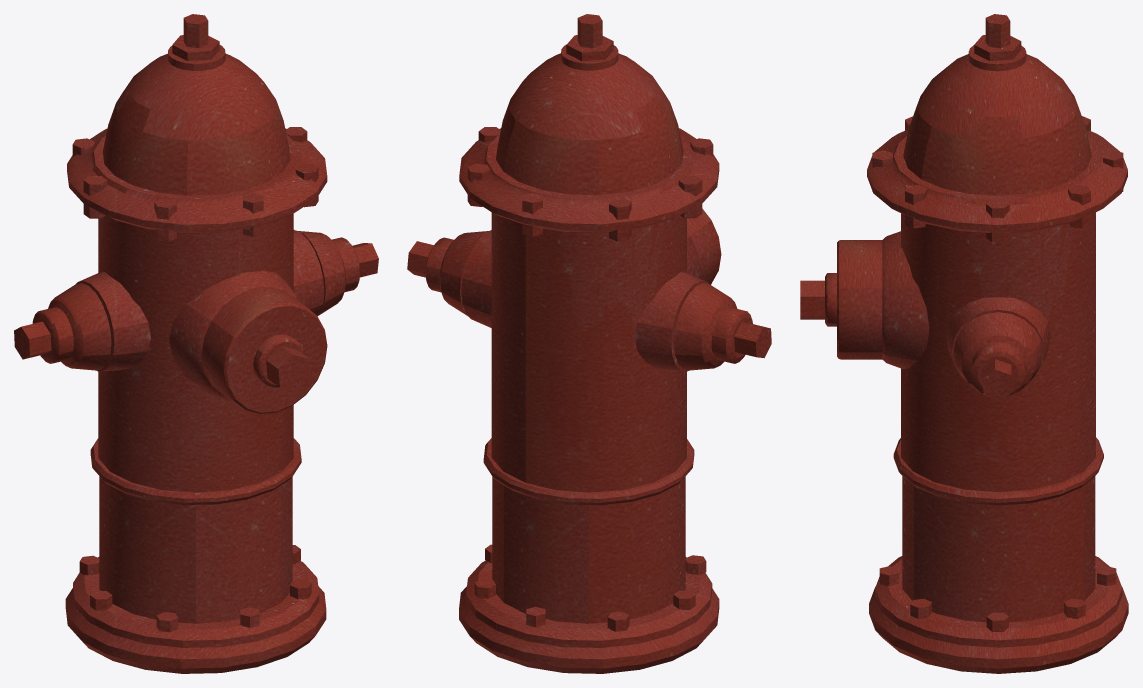
The model's file is hydrant.obj.
The picture shows the model from 3 angles, left to right: view 1: azimuth 30°, elevation 25°; view 2: azimuth 150°, elevation 25°; view 3: azimuth 270°, elevation 25°; orthographic projection.
Visible parts, largest first — view 1: hydmid01, hyd05, hyd02, hyda03, hyd06, hyd03, hyda02, hyda01, hyd04, hydb01, hydab02, hydab03 (+3 smaller); view 2: hydmid01, hyd05, hyd02, hyd06, hyd03, hyda02, hyda01, hyd04, hydb01, hydab02, hydb02, hyda03 (+2 smaller); view 3: hydmid01, hyd05, hyd02, hyd06, hyd03, hyda03, hyda01, hyd04, hydab01, hydb01, hydb02, hydab03 (+1 smaller).
Part boxes in pixels (left/top/right/bottom): hydmid01: left=98, top=213, right=293, bottom=492; hyd05: left=99, top=476, right=292, bottom=623; hyd02: left=103, top=45, right=290, bottom=195; hyda03: left=169, top=270, right=327, bottom=413; hyd06: left=65, top=557, right=326, bottom=673; hyd03: left=67, top=128, right=327, bottom=233; hyda02: left=48, top=272, right=150, bottom=371; hyda01: left=293, top=230, right=346, bottom=316; hyd04: left=90, top=438, right=301, bottom=505; hydb01: left=72, top=127, right=318, bottom=241; hydab02: left=14, top=307, right=73, bottom=363; hydab03: left=253, top=334, right=310, bottom=391; hydmid01: left=491, top=212, right=686, bottom=492; hyd05: left=492, top=476, right=685, bottom=623; hyd02: left=496, top=44, right=683, bottom=195; hyd06: left=459, top=557, right=719, bottom=673; hyd03: left=459, top=128, right=719, bottom=233; hyda02: left=634, top=272, right=737, bottom=371; hyda01: left=439, top=230, right=491, bottom=327; hyd04: left=483, top=438, right=694, bottom=505; hydb01: left=467, top=127, right=713, bottom=241; hydab02: left=711, top=307, right=771, bottom=363; hydb02: left=474, top=544, right=706, bottom=631; hyda03: left=687, top=208, right=721, bottom=284; hydmid01: left=901, top=212, right=1095, bottom=492; hyd05: left=902, top=476, right=1095, bottom=622; hyd02: left=903, top=45, right=1091, bottom=195; hyd06: left=869, top=556, right=1128, bottom=673; hyd03: left=867, top=130, right=1127, bottom=233; hyda03: left=837, top=231, right=929, bottom=368; hyda01: left=946, top=297, right=1050, bottom=393; hyd04: left=893, top=437, right=1103, bottom=505; hydab01: left=971, top=342, right=1025, bottom=400; hydb01: left=872, top=116, right=1123, bottom=242; hydb02: left=879, top=566, right=1116, bottom=631; hydab03: left=800, top=273, right=836, bottom=326.
Size of the model in its own units: 13.06 by 21.59 by 10.67.
1 material, 1 textured.
